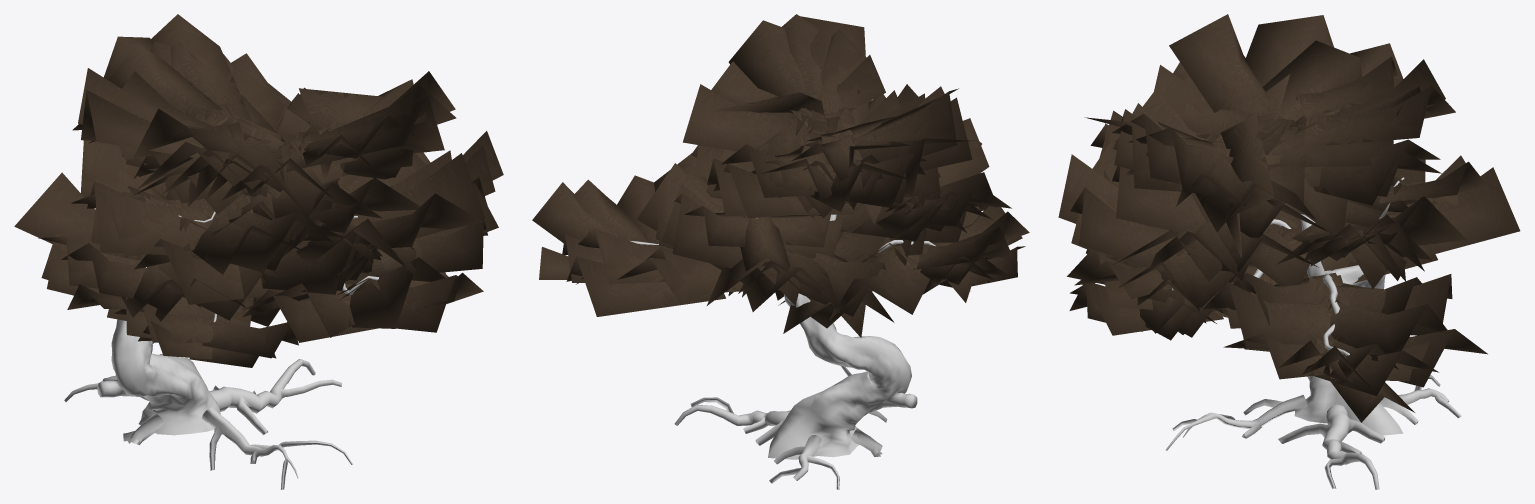
The model's file is blossom_tree_W_LOD1.fbx.
The picture shows the model from 3 angles, left to right: view 1: azimuth 30°, elevation 25°; view 2: azimuth 150°, elevation 25°; view 3: azimuth 270°, elevation 25°; orthographic projection. The views are drawn at different scales.
Visible parts, largest first — view 1: Cherry_blossom_LOD1.001; view 2: Cherry_blossom_LOD1.001; view 3: Cherry_blossom_LOD1.001.
Part boxes in pixels (x1,y1,x2,y2): Cherry_blossom_LOD1.001: [14, 14, 503, 489]; Cherry_blossom_LOD1.001: [532, 14, 1029, 489]; Cherry_blossom_LOD1.001: [1058, 14, 1520, 489].
Size of the model in its own units: 15.87 by 11.96 by 13.37.
